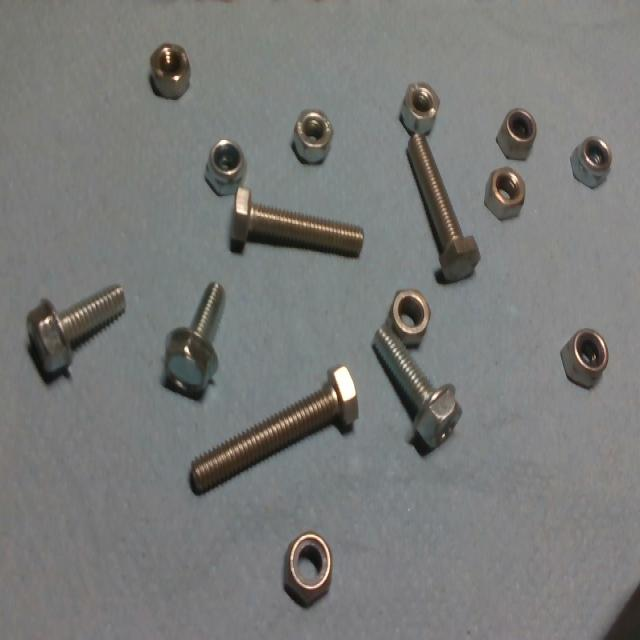Bolt: (188, 367, 359, 496), (372, 324, 460, 456), (406, 135, 481, 279), (230, 187, 365, 260), (27, 284, 125, 377), (163, 283, 224, 399)
Nut: (283, 532, 332, 612), (560, 329, 608, 385), (149, 40, 190, 99), (204, 139, 244, 199), (291, 108, 333, 164), (569, 137, 612, 191), (386, 291, 429, 344), (484, 168, 526, 221), (400, 84, 438, 139), (496, 109, 537, 159)
